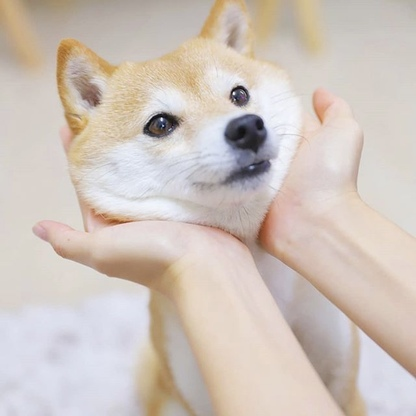shiba: (46, 2, 379, 416)
